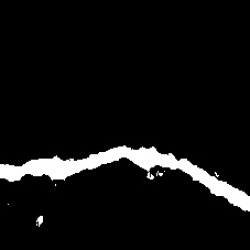crack: (0, 145, 249, 211)
pinhole: (36, 216, 45, 226)
